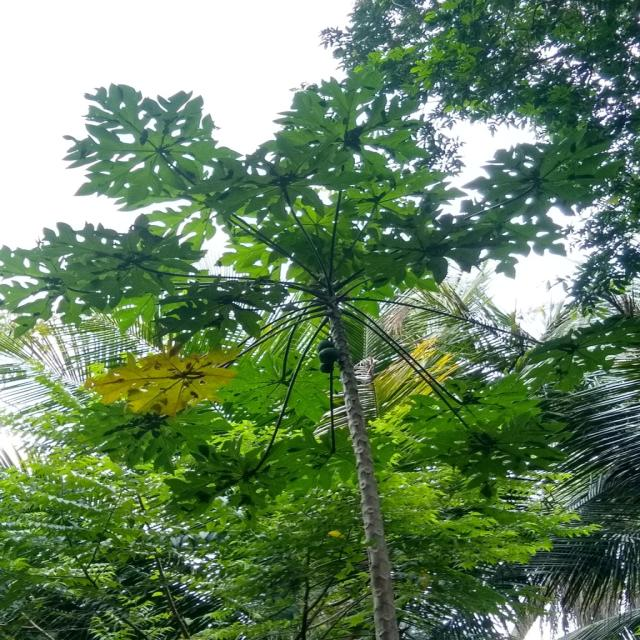Papaya-Tree: (210, 115, 442, 640)
